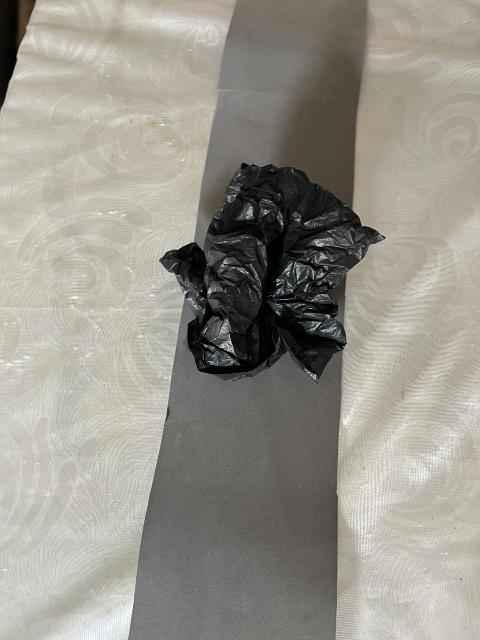LDPE: (155, 139, 400, 405)
